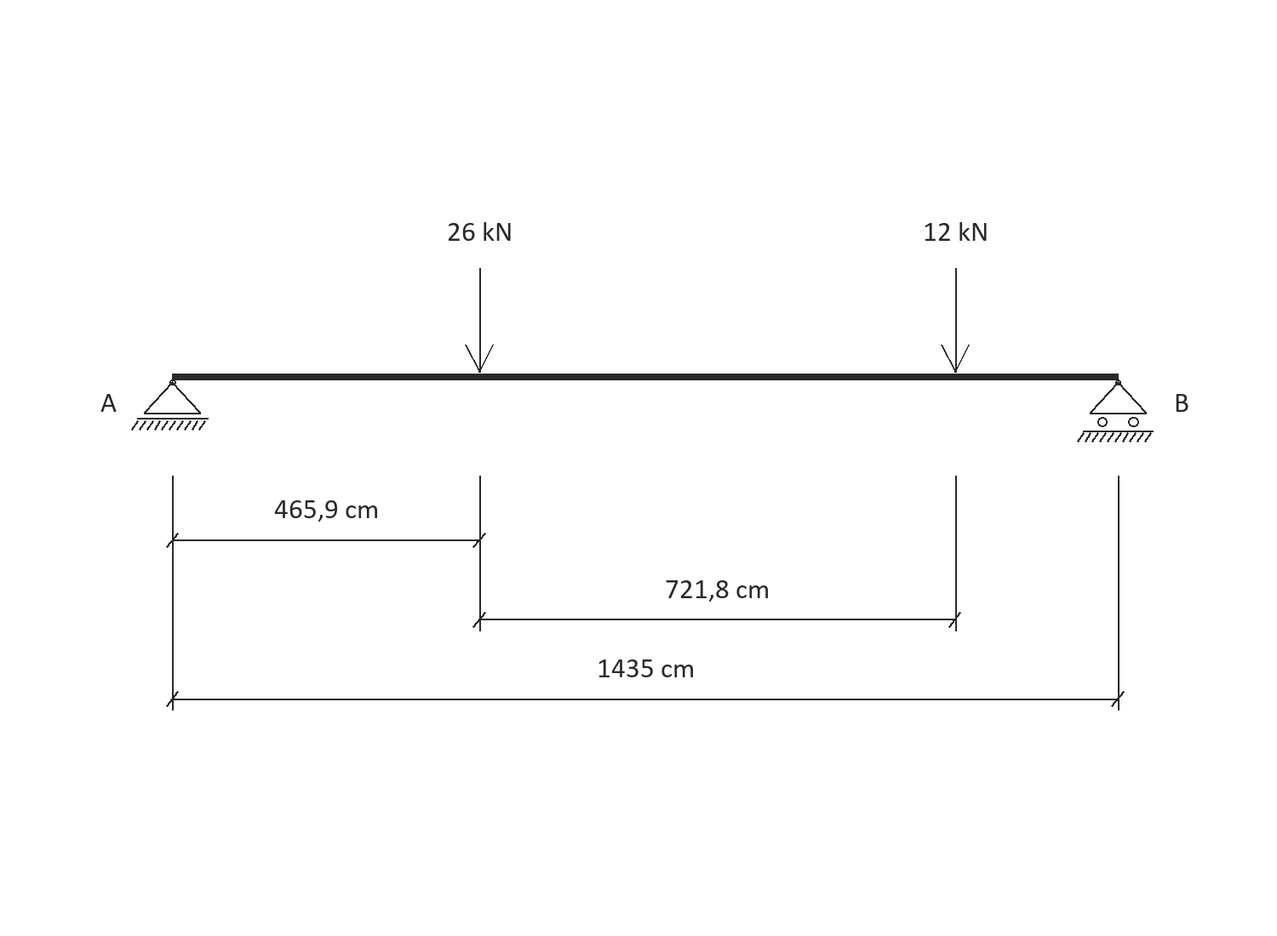pin_support: (131, 380, 209, 431)
point_load: (465, 268, 494, 373), (941, 268, 970, 373)
roller_support: (1077, 380, 1154, 442)
